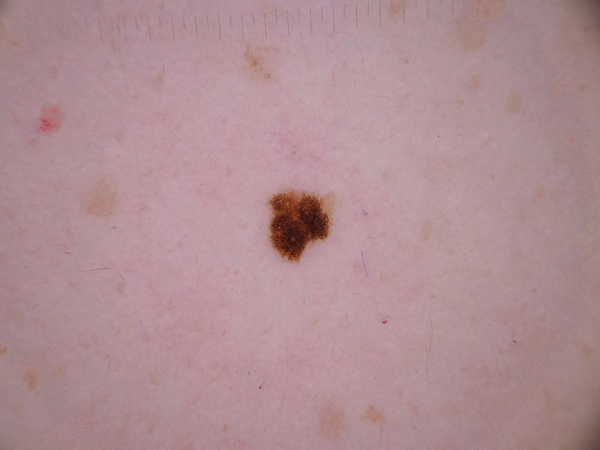Color changes: (274, 195, 304, 224)
